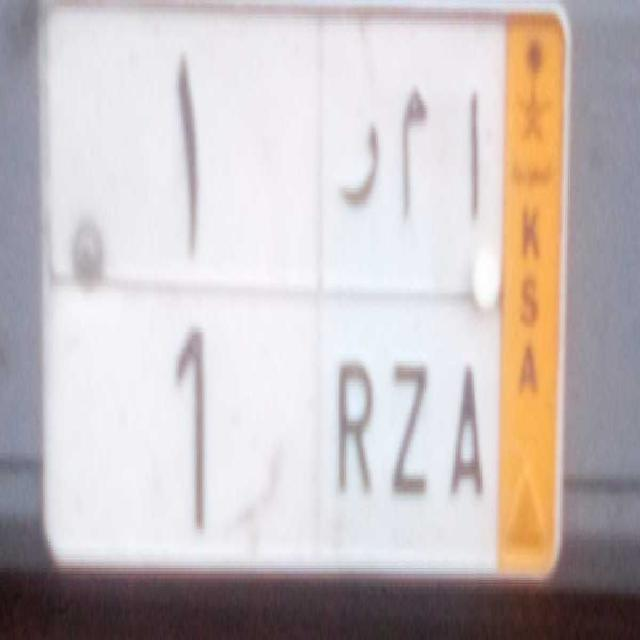license_plate: (44, 269, 502, 572)
